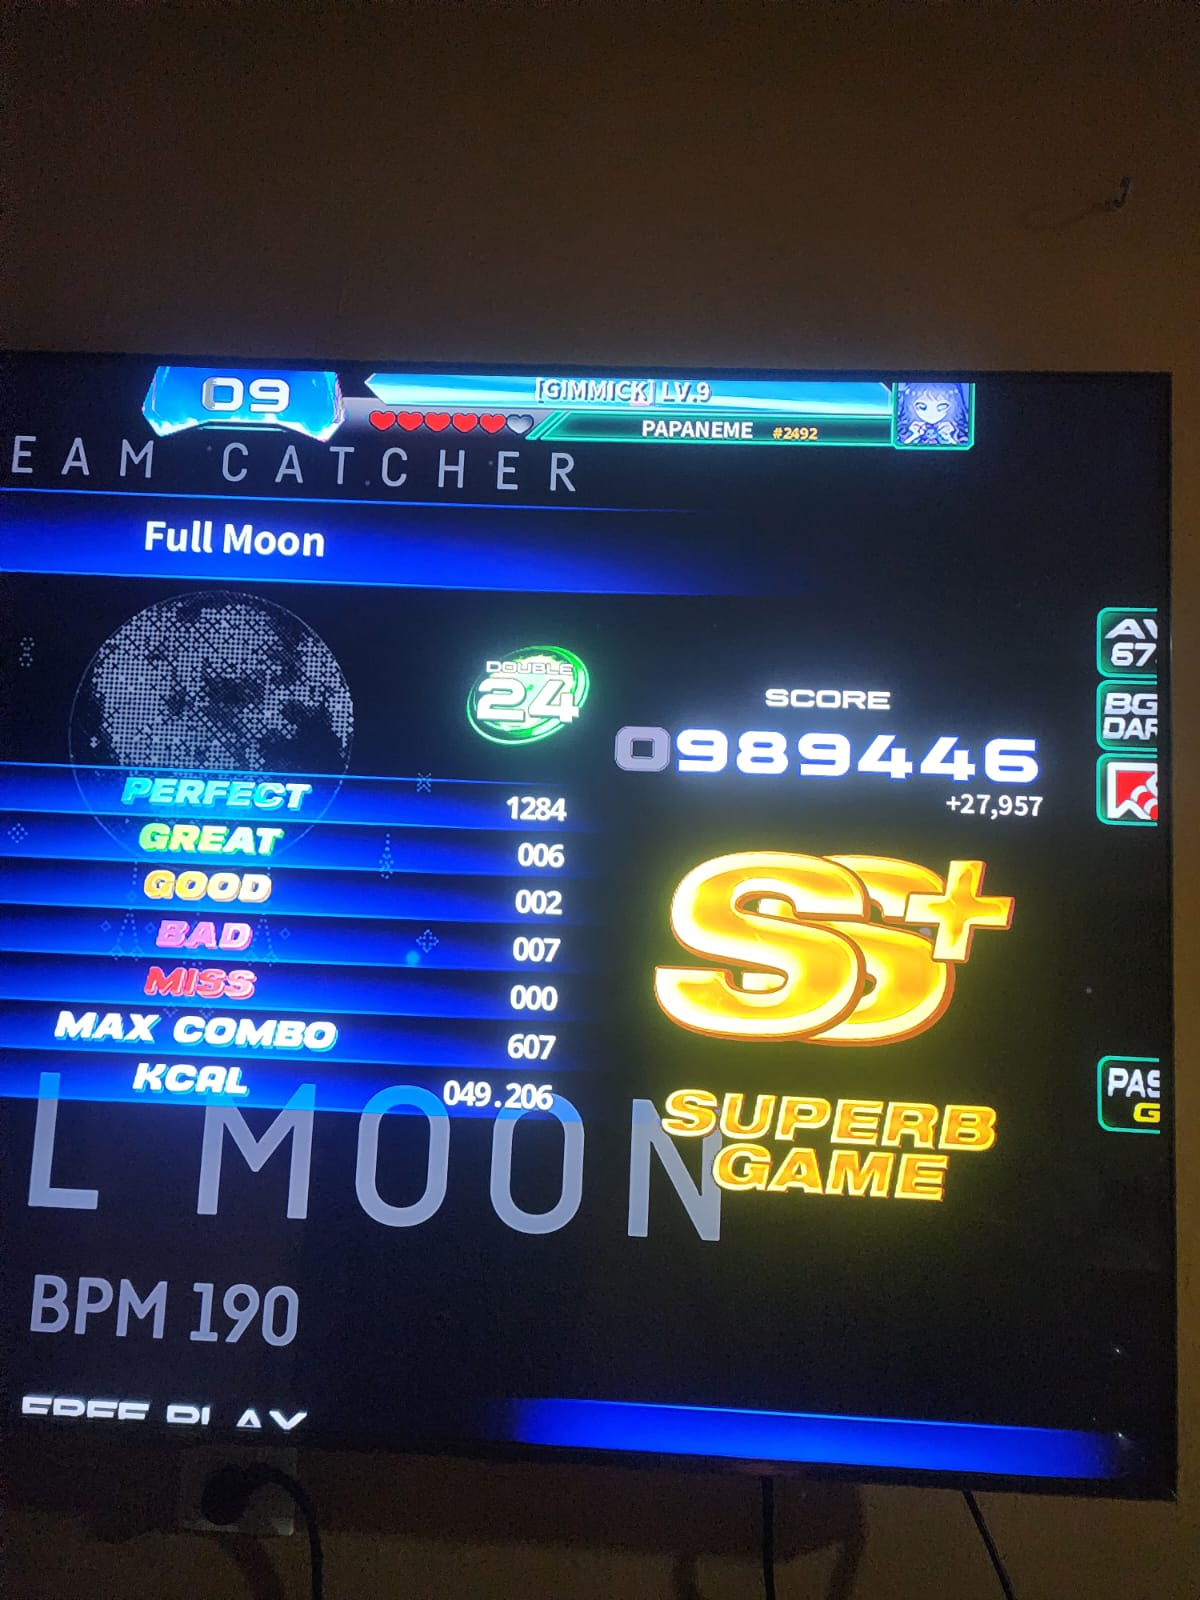difficulty: (437, 596, 620, 774)
fullscore: (0, 358, 1192, 1483)
rank: (635, 837, 1010, 1060)
score: (625, 663, 1075, 781)
song_name: (53, 469, 543, 601)
